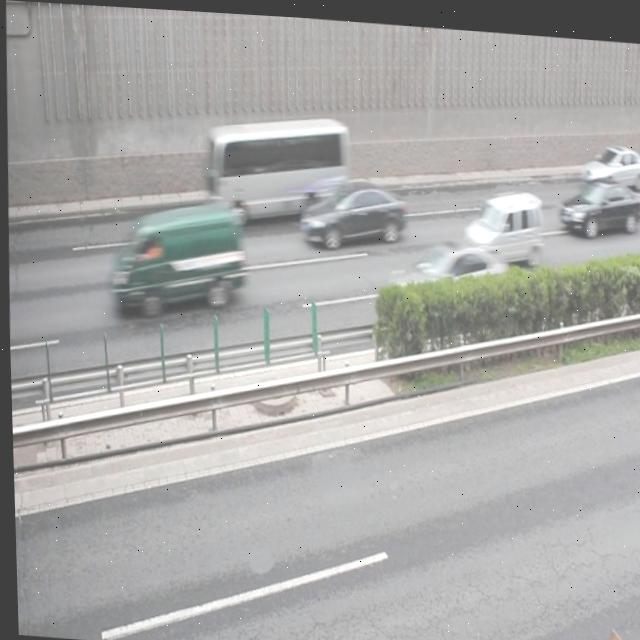car: (386, 238, 506, 311), (298, 178, 403, 248), (556, 169, 638, 232), (579, 133, 640, 185)
truck: (109, 196, 243, 313), (461, 181, 540, 262)
van: (204, 107, 349, 223)
